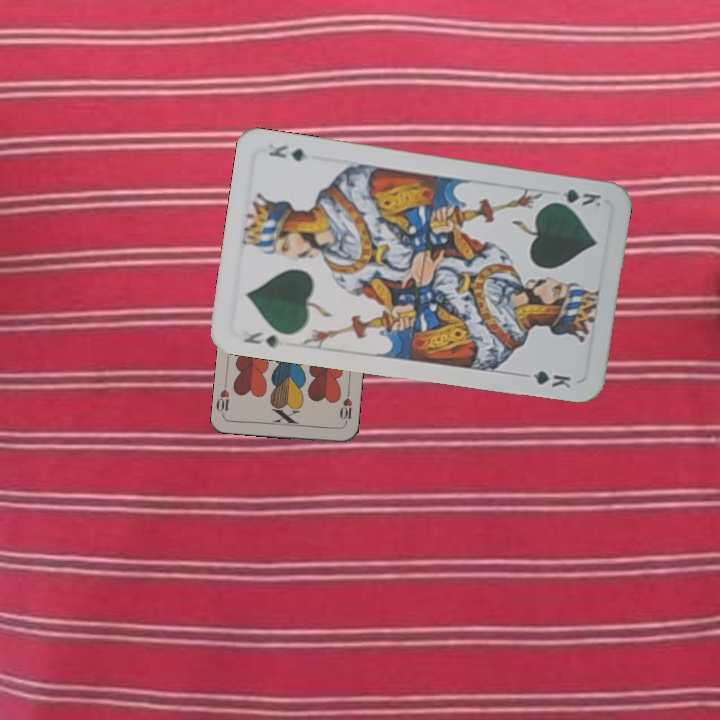GK: (546, 184, 604, 210), (240, 328, 285, 350)
H10: (335, 387, 355, 428)
